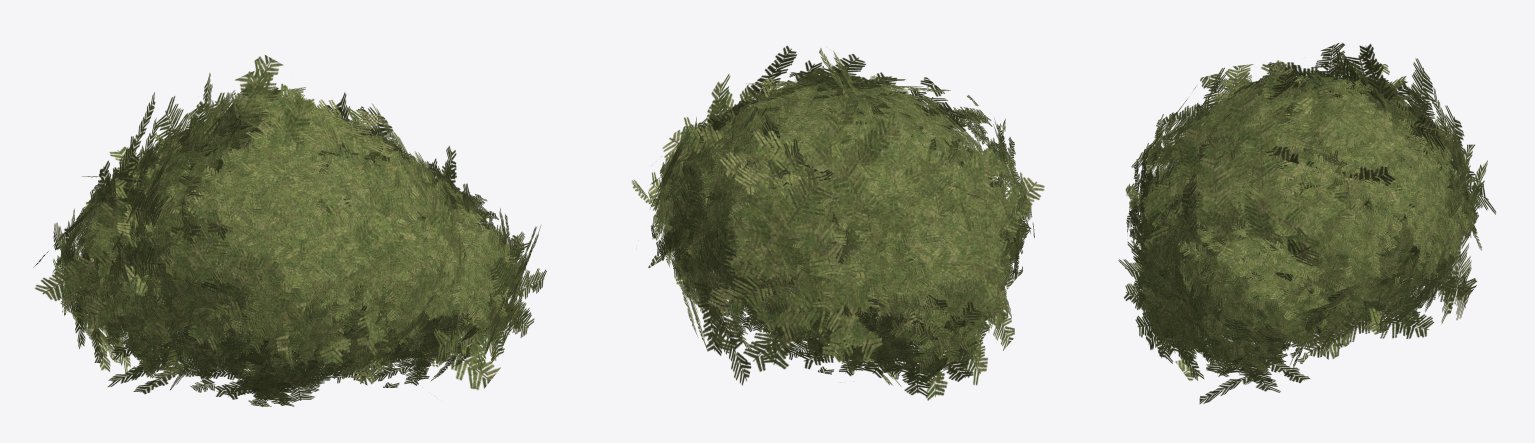
Rendered from bush-1.glb.
The picture shows the model from 3 angles, left to right: view 1: azimuth 30°, elevation 25°; view 2: azimuth 150°, elevation 25°; view 3: azimuth 270°, elevation 25°; orthographic projection. The views are drawn at different scales.
Visible parts, largest first — view 1: leaves, leaves_far; view 2: leaves_far, leaves; view 3: leaves_far, leaves.
Boxes of the visible parts, x1,y1,x2,y2 form: leaves: [52, 87, 529, 406]; leaves_far: [33, 55, 546, 406]; leaves_far: [631, 45, 1044, 400]; leaves: [650, 72, 1034, 382]; leaves_far: [1118, 43, 1496, 403]; leaves: [1126, 62, 1478, 373].
Size of the model in its own units: 3.08 by 2.34 by 2.65.
2 materials, 2 textured.
